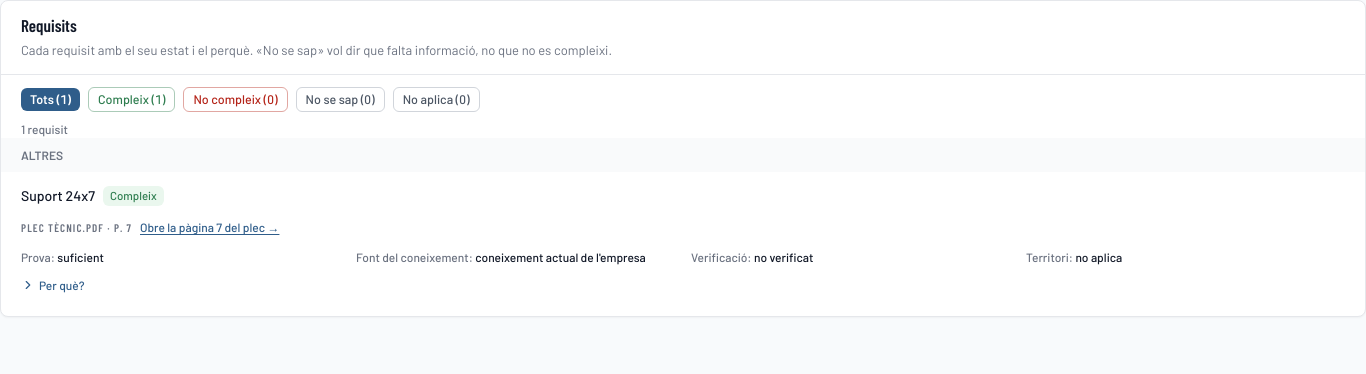
Test case: Requisits: destí «On es resol» (B5) › un requisit satisfet per una dada declarada (sense verificar) porta a Coneixement actual, no a cap pestanya de pendents
This screenshot has width=1366, height=374.
// El destí viu dins del panell «Per què?», plegat per defecte.
What coordinates should you click on to do the following:
click the button "Per què?"
I would click on:
 (53, 285)
Its box is [21,276,84,294].
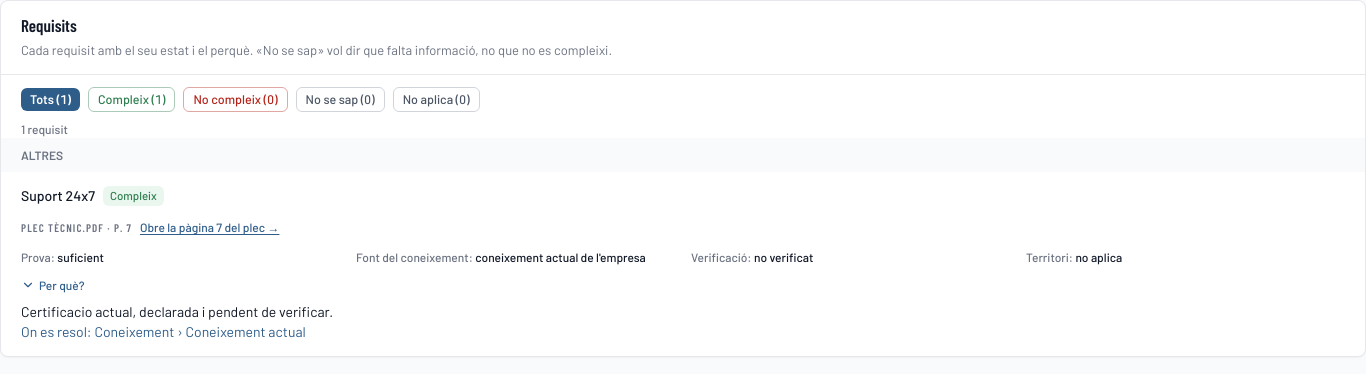
Check: the link "On es resol: Coneixement › Coneixement actual" is shown, box [21,322,306,342]
